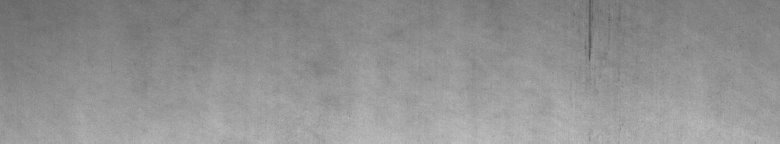ka: (582, 4, 621, 64)
